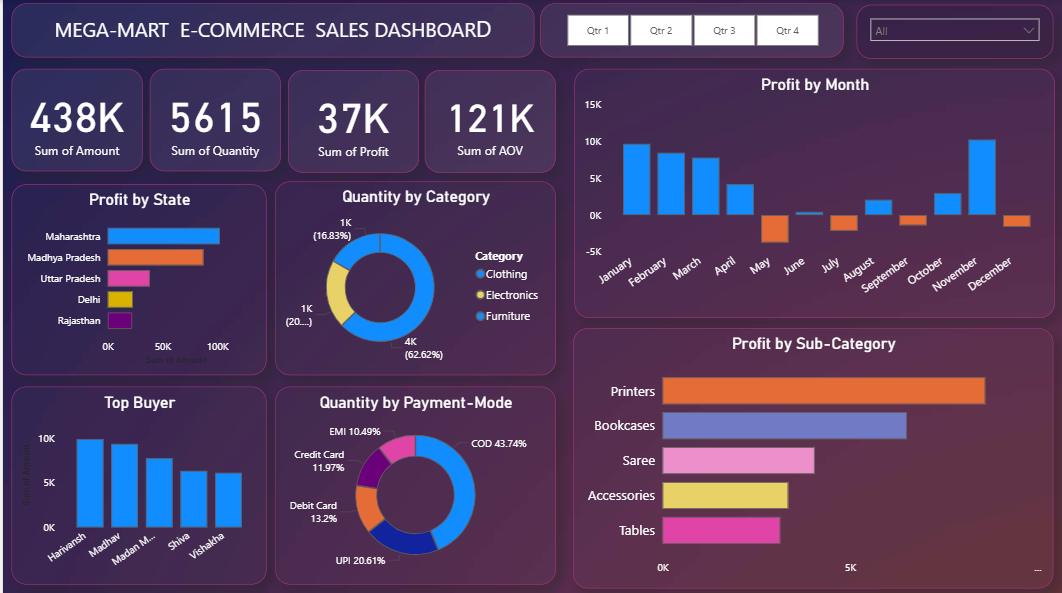

The page's visual inventory and layout, read from the dashboard file:
{"tool":"powerbi","page":{"name":"Page 1","canvas":[1280,720],"ordinal":0},"visuals":[{"type":"textbox","box":[10.3,5.2,630.3,65.3],"z":0},{"type":"columnChart","title":" Profit by Month","fields":{"Y":["Sum(Details.Profit)"],"Category":["Orders.Order Date.Variation.Date Hierarchy.Month"]},"box":[688.7,84.2,578.8,300.6],"z":1000},{"type":"barChart","title":"Profit by Sub-Category","fields":{"Category":["Details.Sub-Category"],"Y":["Sum(Details.Profit)"]},"box":[687,396.8,579,314],"z":2000},{"type":"donutChart","title":"Quantity by Category","fields":{"Category":["Details.Category"],"Y":["Sum(Details.Quantity)"]},"box":[328.1,219.8,338.4,233.6],"z":3000},{"type":"pieChart","title":"Quantity by Payment-Mode","fields":{"Y":["Sum(Details.Quantity)"],"Category":["Details.PaymentMode"]},"box":[328.1,467.2,338.4,238.7],"z":4000},{"type":"card","fields":{"Values":["Sum(Details.Amount)"]},"box":[10.3,84.2,158,123.7],"z":5000},{"type":"card","fields":{"Values":["Sum(Details.Quantity)"]},"box":[176.9,84.2,158,123.7],"z":6000},{"type":"card","fields":{"Values":["Sum(Details.Profit)"]},"box":[343.5,85.9,158,123.7],"z":7000},{"type":"card","fields":{"Values":["Sum(Details.AOV)"]},"box":[508.4,85.9,158,123.7],"z":8000},{"type":"barChart","title":"Profit by State","fields":{"Category":["Orders.State"],"Y":["Sum(Details.Amount)"]},"box":[10.3,223.3,307.4,230.1],"z":9000},{"type":"columnChart","title":"Top Buyer","fields":{"Category":["Orders.CustomerName"],"Y":["Sum(Details.Amount)"]},"box":[10.3,467.2,307.4,238.7],"z":10000},{"type":"slicer","fields":{"Values":["Orders.Order Date.Variation.Date Hierarchy.Quarter"]},"box":[647.5,5.2,365.8,65.3],"z":11000},{"type":"slicer","fields":{"Values":["Orders.State"]},"box":[1028.8,6.9,237,65.3],"z":12000}]}

Visuals, with their boxes in screenshot pixels (x1, y1, x2, y2), scaled from the page's 1280x720 canvas onto the 1062x593 screenshot:
textbox: <box>9,4,531,58</box>
" Profit by Month" columnChart: <box>571,69,1052,317</box>
"Profit by Sub-Category" barChart: <box>570,327,1050,585</box>
"Quantity by Category" donutChart: <box>272,181,553,373</box>
"Quantity by Payment-Mode" pieChart: <box>272,385,553,581</box>
card - Sum(Details.Amount): <box>9,69,140,171</box>
card - Sum(Details.Quantity): <box>147,69,278,171</box>
card - Sum(Details.Profit): <box>285,71,416,173</box>
card - Sum(Details.AOV): <box>422,71,553,173</box>
"Profit by State" barChart: <box>9,184,264,373</box>
"Top Buyer" columnChart: <box>9,385,264,581</box>
slicer - Orders.Order Date.Variation.Date Hierarchy.Quarter: <box>537,4,841,58</box>
slicer - Orders.State: <box>854,6,1050,59</box>
